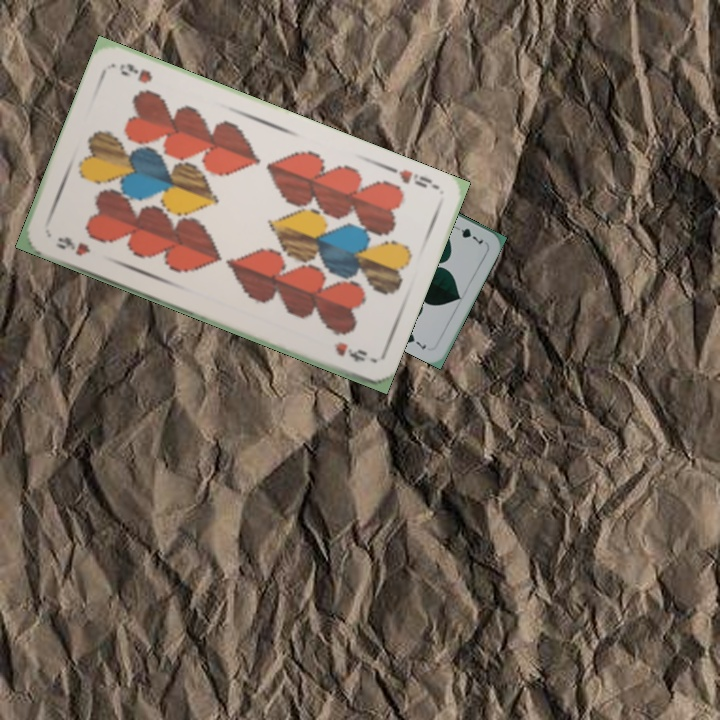G7: (449, 221, 486, 247)
H9: (384, 162, 435, 191), (52, 232, 93, 259)
